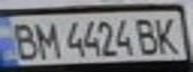2: (97, 16, 118, 57)
4: (60, 17, 84, 59), (112, 15, 136, 56), (81, 16, 100, 57)
B: (6, 19, 42, 61), (133, 15, 163, 56)
K: (151, 13, 184, 55)
M: (30, 18, 60, 60)
